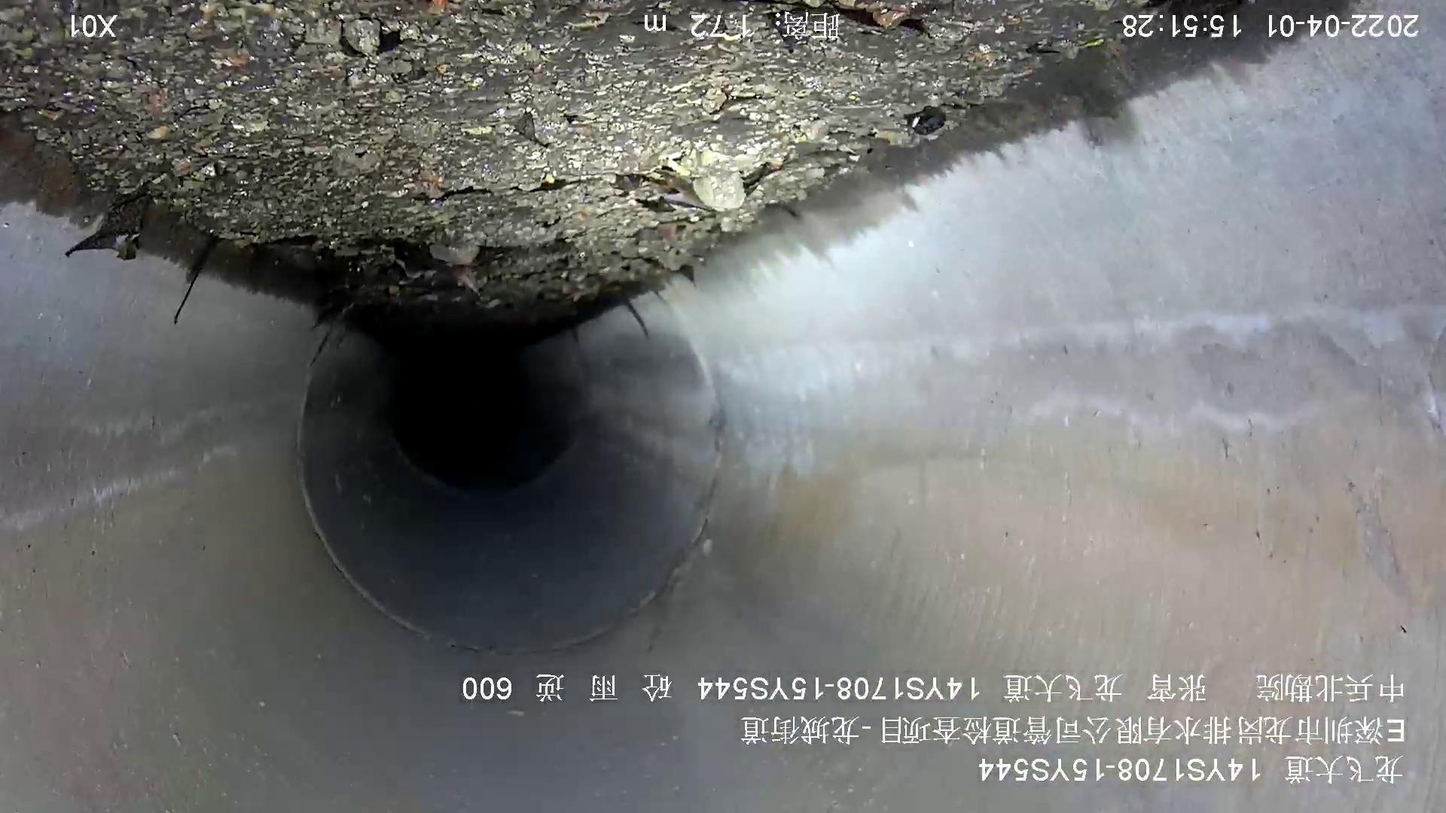CJ: (1, 1, 1123, 329)
CKTJ: (288, 276, 732, 661)
